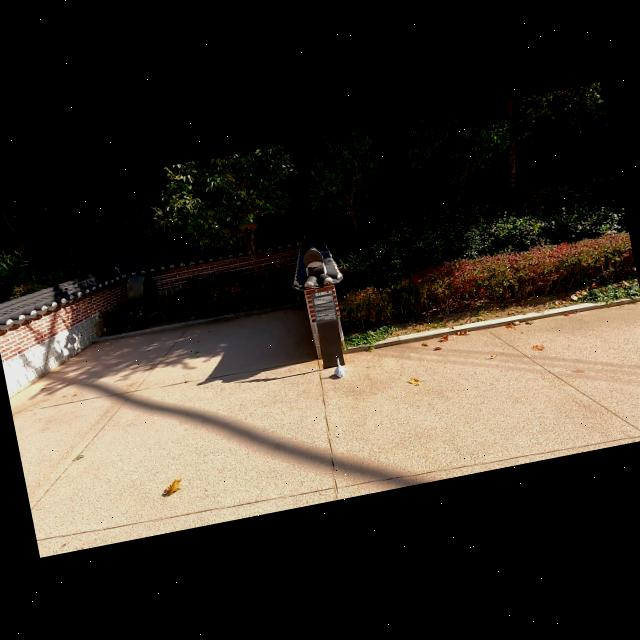trash: (328, 354, 356, 386)
